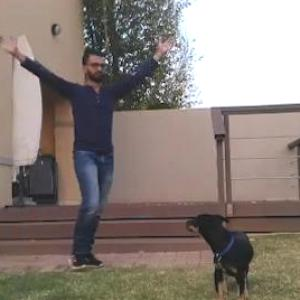takeoff: (1, 41, 174, 284)
